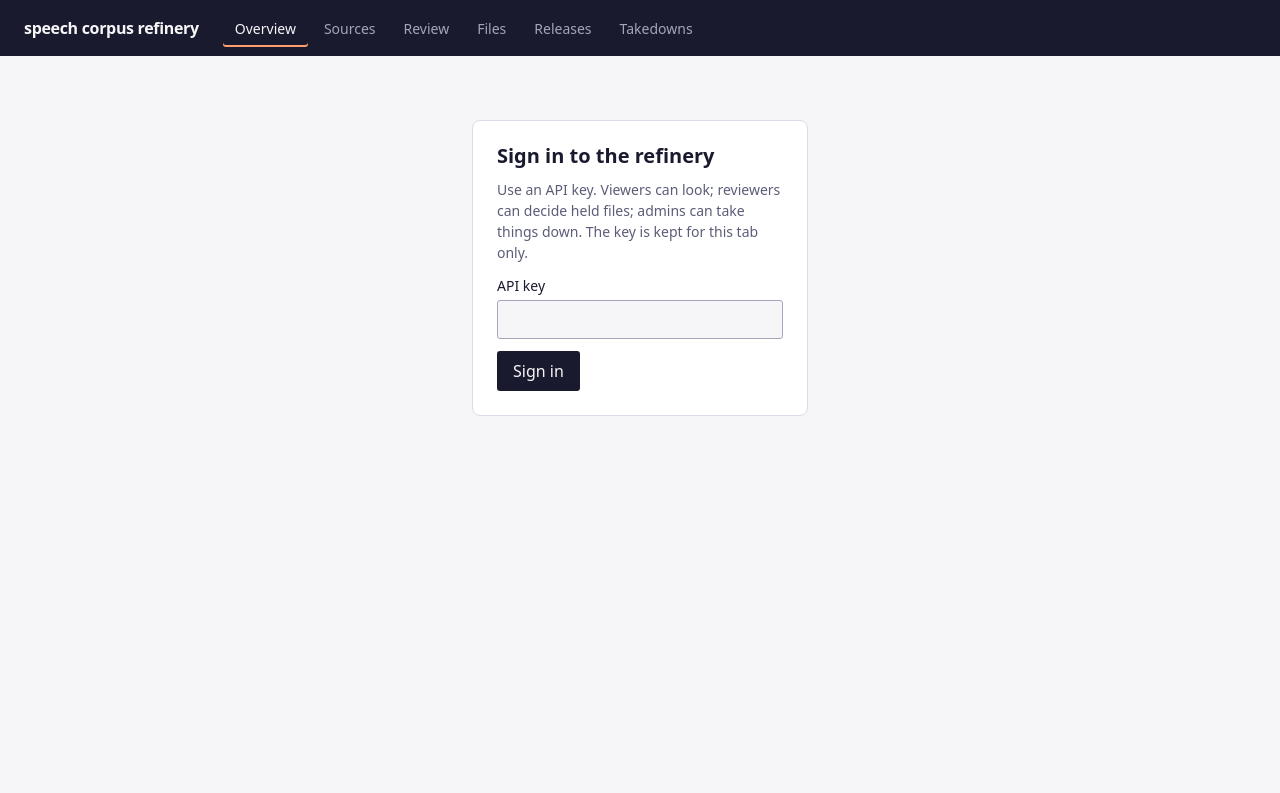
overview › asks for a key on 401 and recovers with it
Type "viewer-key-0123456789" into the password field labelled "API key" at (640, 320), box [497, 300, 783, 339]
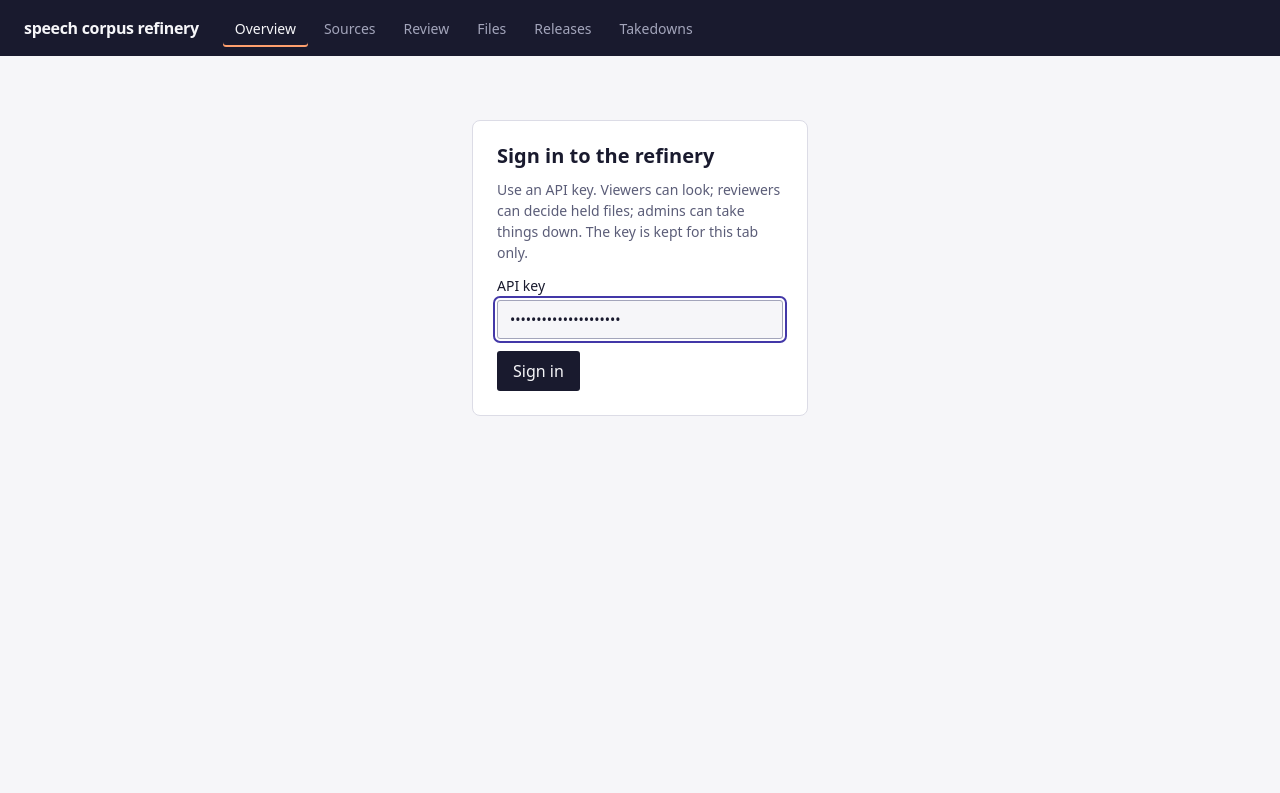
Click the button "Sign in" at (538, 371), box [497, 351, 580, 391]
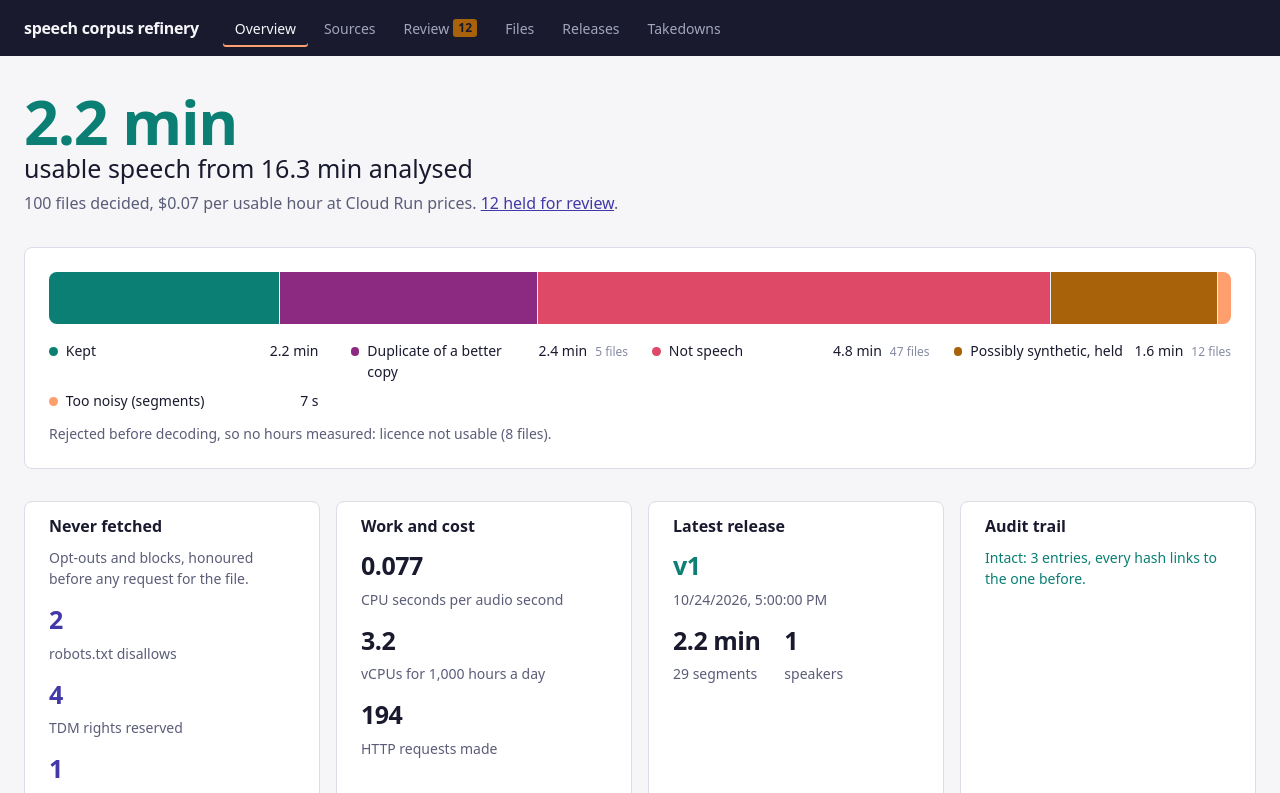
Result: the text "2.2 min" next to "analysed" is shown at [24, 80, 237, 163]
